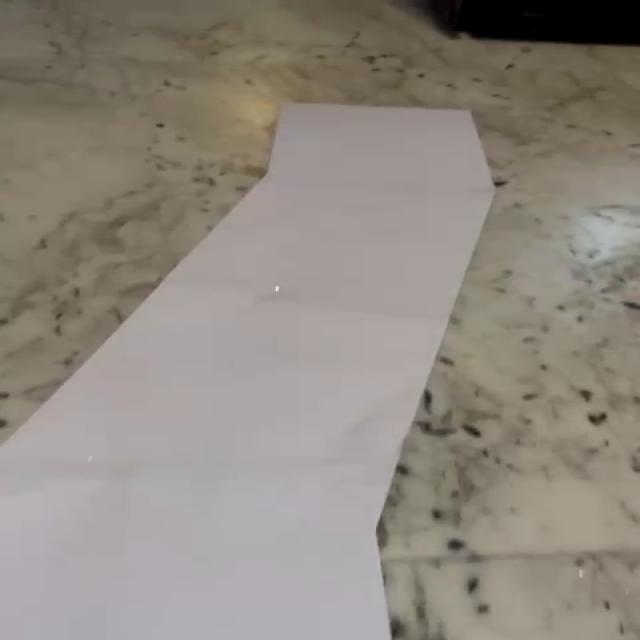road: (1, 103, 495, 640)
